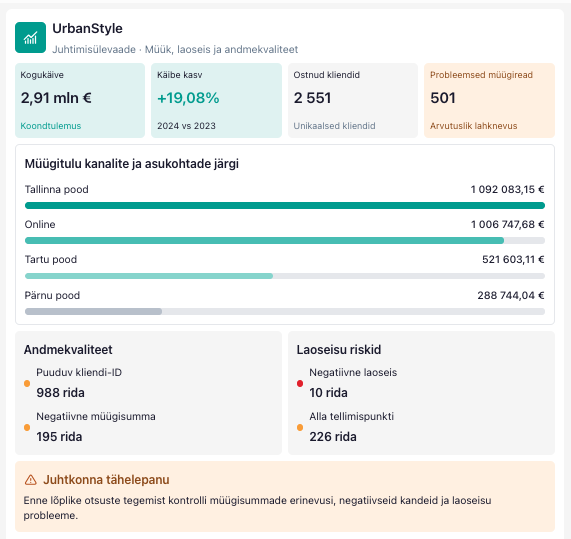

The page's visual inventory and layout, read from the dashboard file:
{"tool":"powerbi","page":{"name":"Lk 1","canvas":[1280,720],"ordinal":0},"visuals":[{"type":"cardVisual","fields":{"Data":["public customers.Kogukäive"]},"box":[0,101.2,320,102.5],"z":0,"group":"g1"},{"type":"lineChart","title":"Müük kuude lõikes","fields":{"Category":["Kalender.Kuu kuupäev.Variation.Kuupäeva hierarhia.Aasta","Kalender.Kuu kuupäev.Variation.Kuupäeva hierarhia.Kvartal","Kalender.Kuu kuupäev.Variation.Kuupäeva hierarhia.Kuu","Kalender.Kuu kuupäev.Variation.Kuupäeva hierarhia.Päev"],"Y":["public customers.Kogukäive"]},"box":[17.5,203.8,605,220],"z":0},{"type":"shape","box":[0,0,1280,92.5],"z":1000,"group":"g2"},{"type":"group","id":"g1","title":"Group 1","box":[0,101.2,1270,102.5],"z":1000},{"type":"cardVisual","fields":{"Data":["public customers.Ostnud kliendid"]},"box":[326.7,101.2,310,102.5],"z":2000,"group":"g1"},{"type":"clusteredBarChart","title":"Müük kanalite lõikes","fields":{"Category":["public sales.Müügikoht"],"Y":["public customers.Kogukäive"]},"box":[16.2,446.2,606.2,181.2],"z":2000},{"type":"group","id":"g2","title":"Group 2","box":[0,0,1280,92.5],"z":3000},{"type":"textbox","box":[32.5,18.5,510,52],"z":3000,"group":"g2"},{"type":"cardVisual","fields":{"Data":["public customers.Probleemsed müügiread"]},"box":[643.3,101.2,310,102.5],"z":3000,"group":"g1"},{"type":"textbox","box":[32.5,55.5,700,28.9],"z":4000,"group":"g2"},{"type":"cardVisual","fields":{"Data":["public sales.Käibe kasv %"]},"box":[960,101.2,310,102.5],"z":4000,"group":"g1"},{"type":"shape","box":[36.2,13.9,85,11.6],"z":5000,"group":"g2"}]}

Visuals, with their boxes on the page's 1280x720 design canvas (x1, y1, x2, y2). These are canvas units, not pixel positions in the 571x539 screenshot, which may show the page scaled, cropped or inside an application window:
cardVisual - public customers.Kogukäive: [0, 101, 320, 204]
"Müük kuude lõikes" lineChart: [18, 204, 622, 424]
shape: [0, 0, 1280, 92]
"Group 1" group: [0, 101, 1270, 204]
cardVisual - public customers.Ostnud kliendid: [327, 101, 637, 204]
"Müük kanalite lõikes" clusteredBarChart: [16, 446, 622, 627]
"Group 2" group: [0, 0, 1280, 92]
textbox: [32, 18, 542, 70]
cardVisual - public customers.Probleemsed müügiread: [643, 101, 953, 204]
textbox: [32, 56, 732, 84]
cardVisual - public sales.Käibe kasv %: [960, 101, 1270, 204]
shape: [36, 14, 121, 26]
